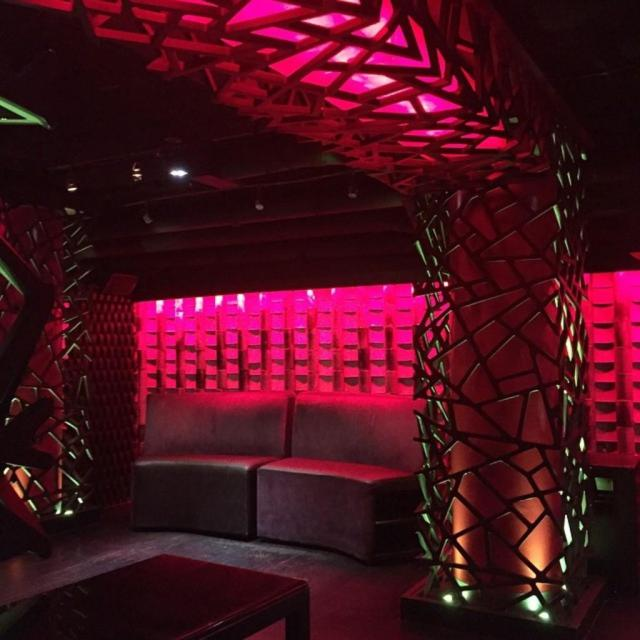Table: (0, 552, 311, 639)
